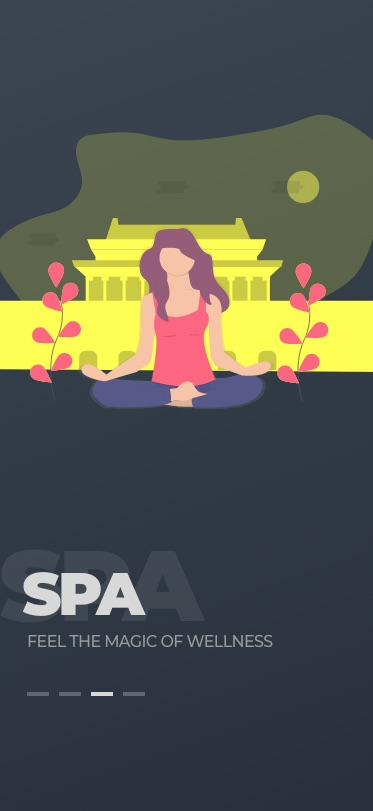Image: (1, 115, 373, 411)
PageIndicator: (27, 691, 146, 697)
Text: (23, 571, 146, 618), (28, 634, 274, 648)
